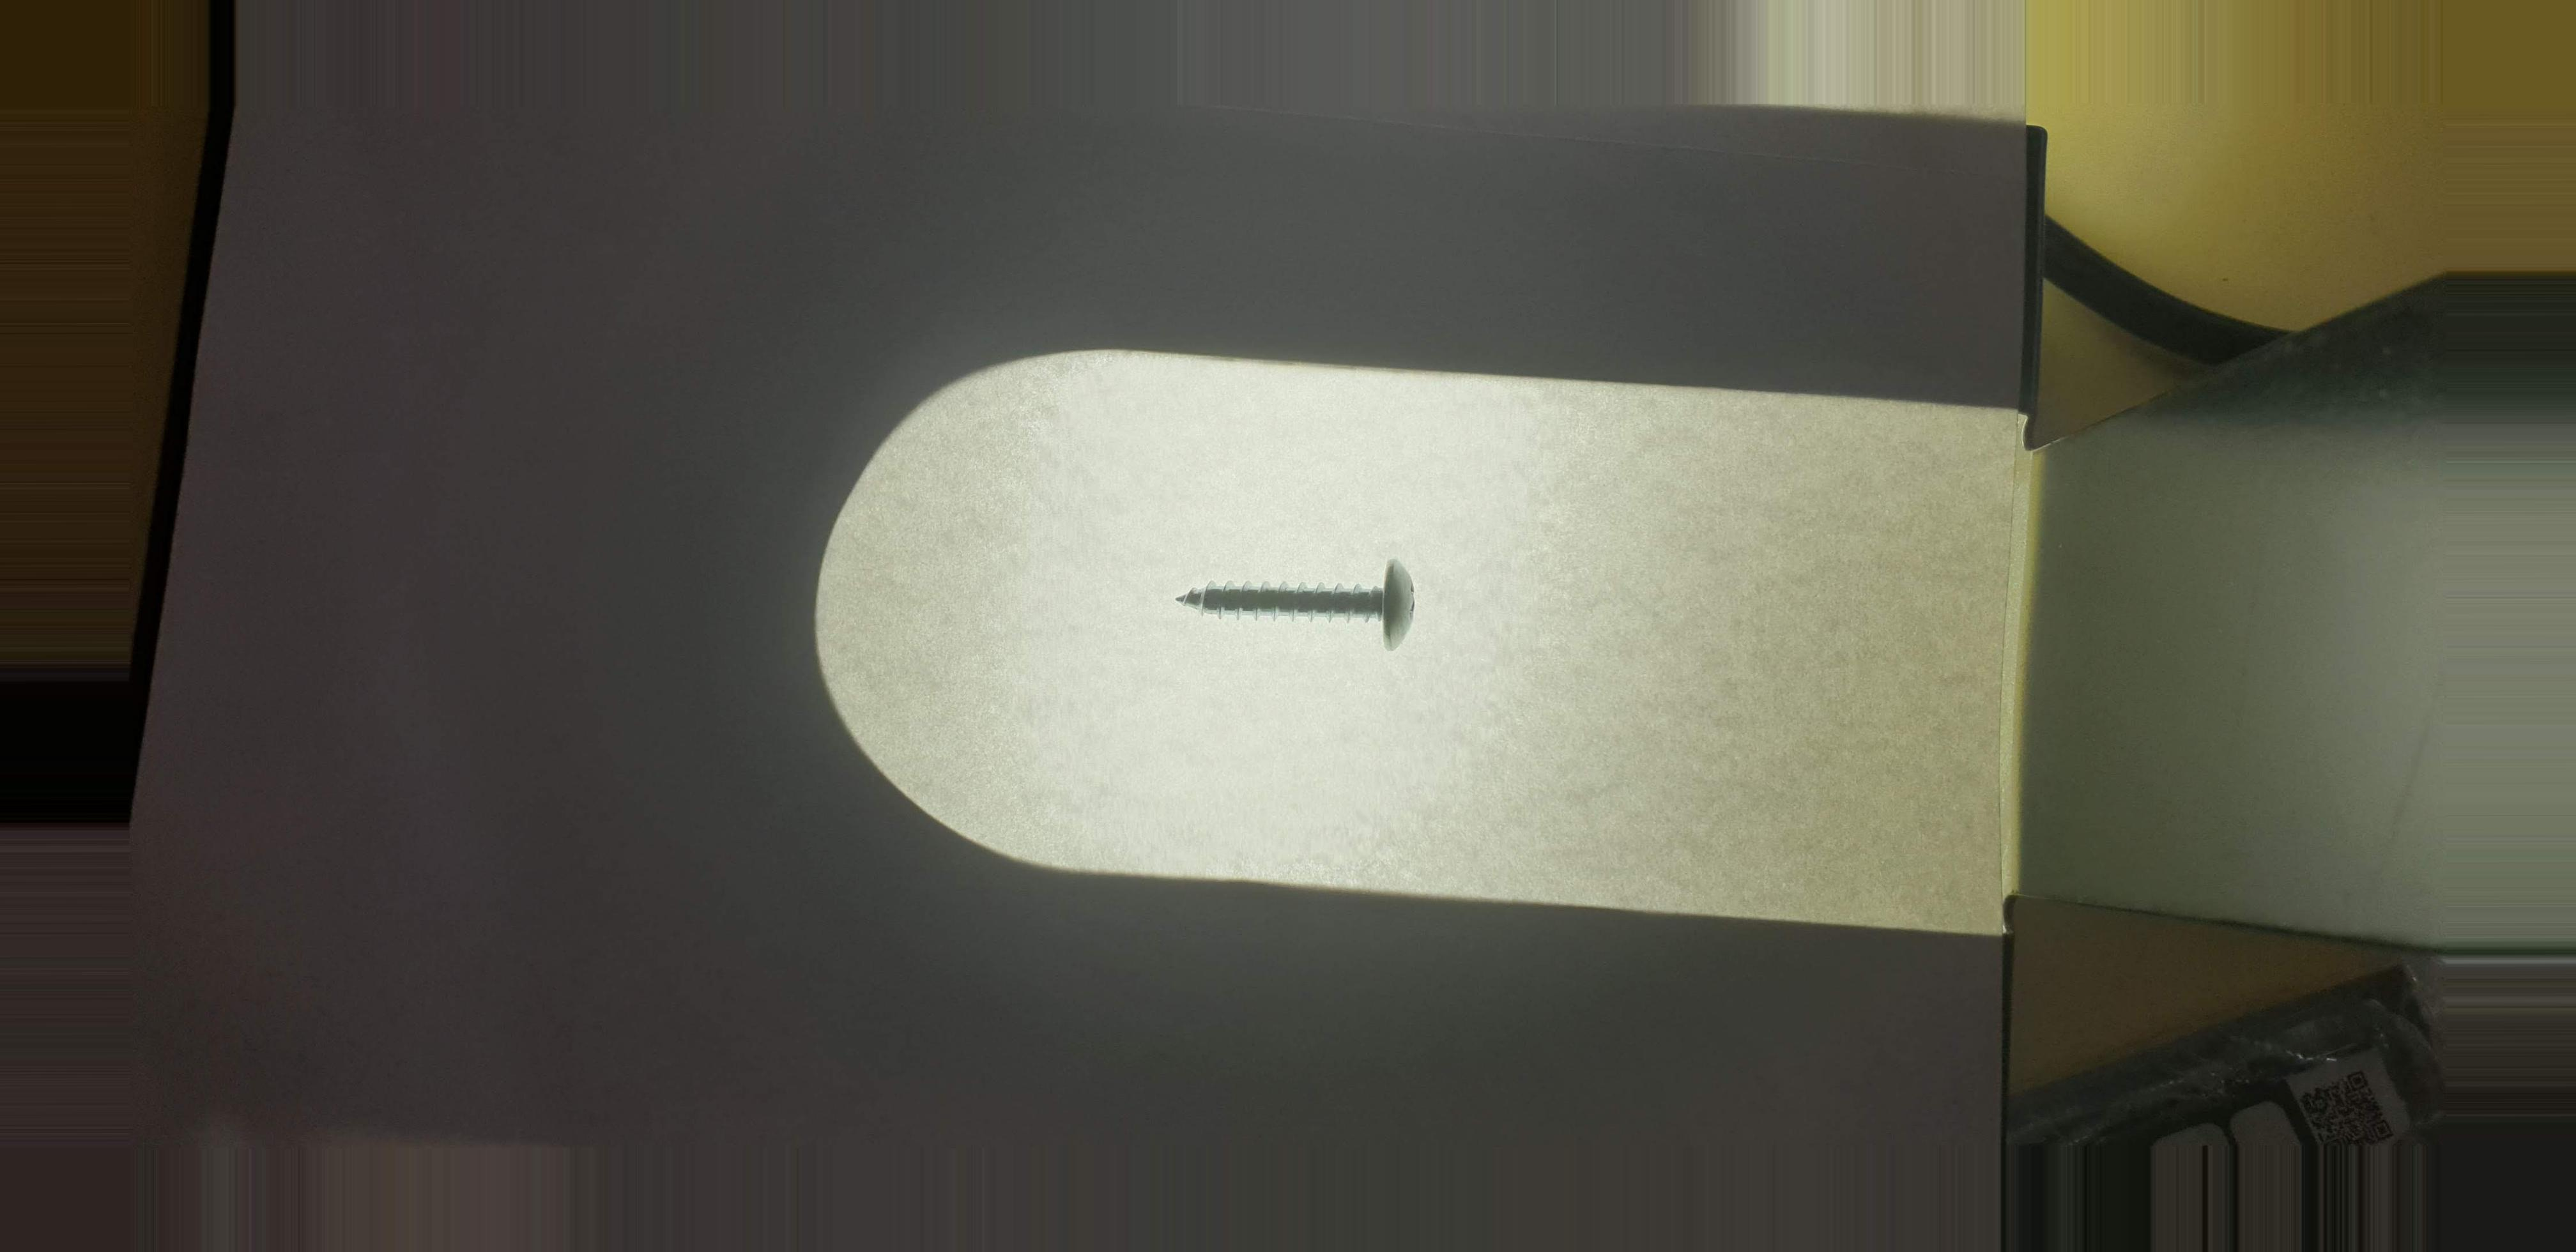S002: (1165, 544, 1456, 667)
